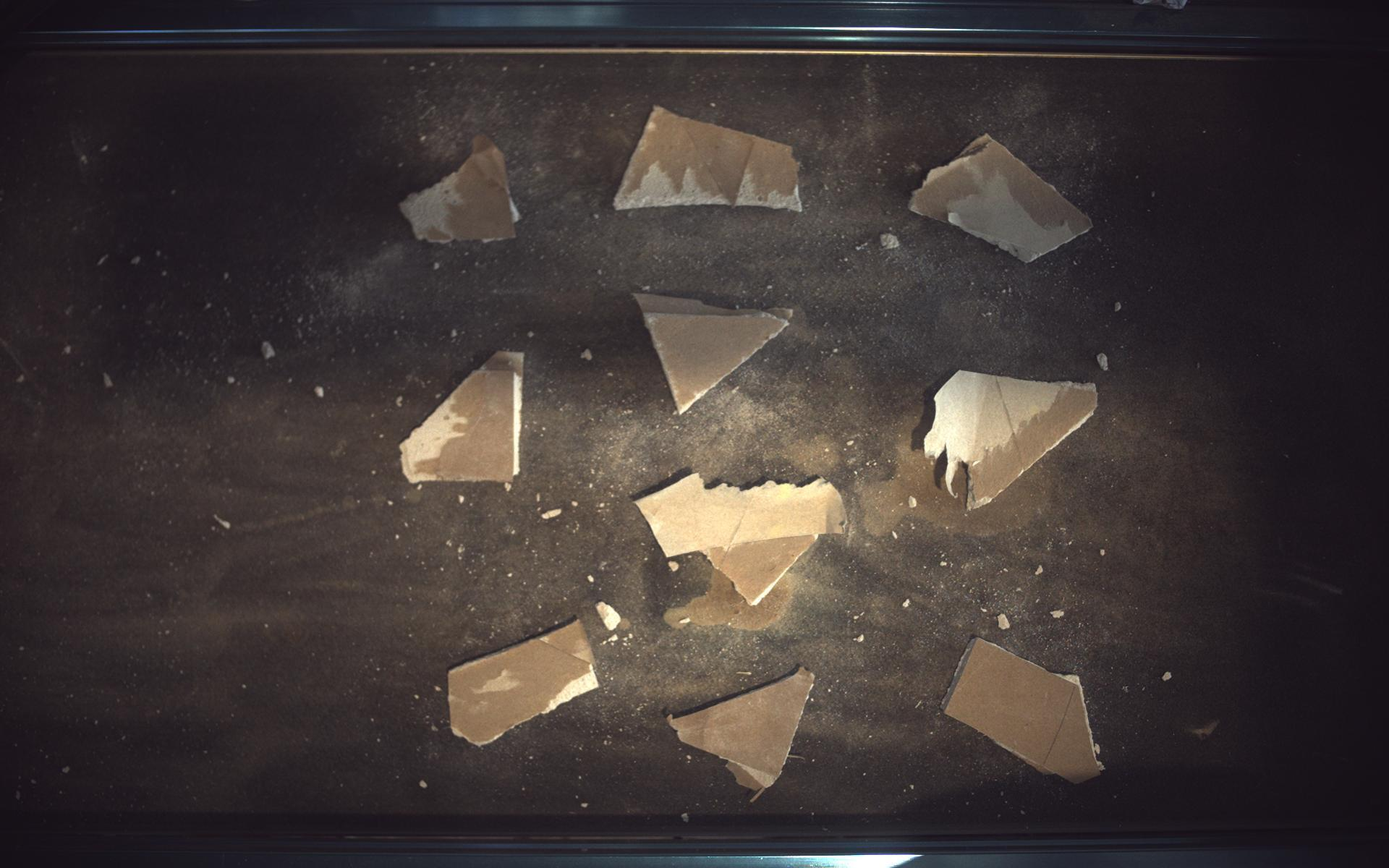gypsum_board: (637, 474, 847, 605), (927, 370, 1100, 511), (945, 639, 1107, 785), (912, 133, 1095, 262), (614, 105, 802, 210), (668, 668, 817, 800), (634, 292, 794, 414), (449, 621, 598, 746), (399, 352, 524, 483), (399, 134, 519, 242)
